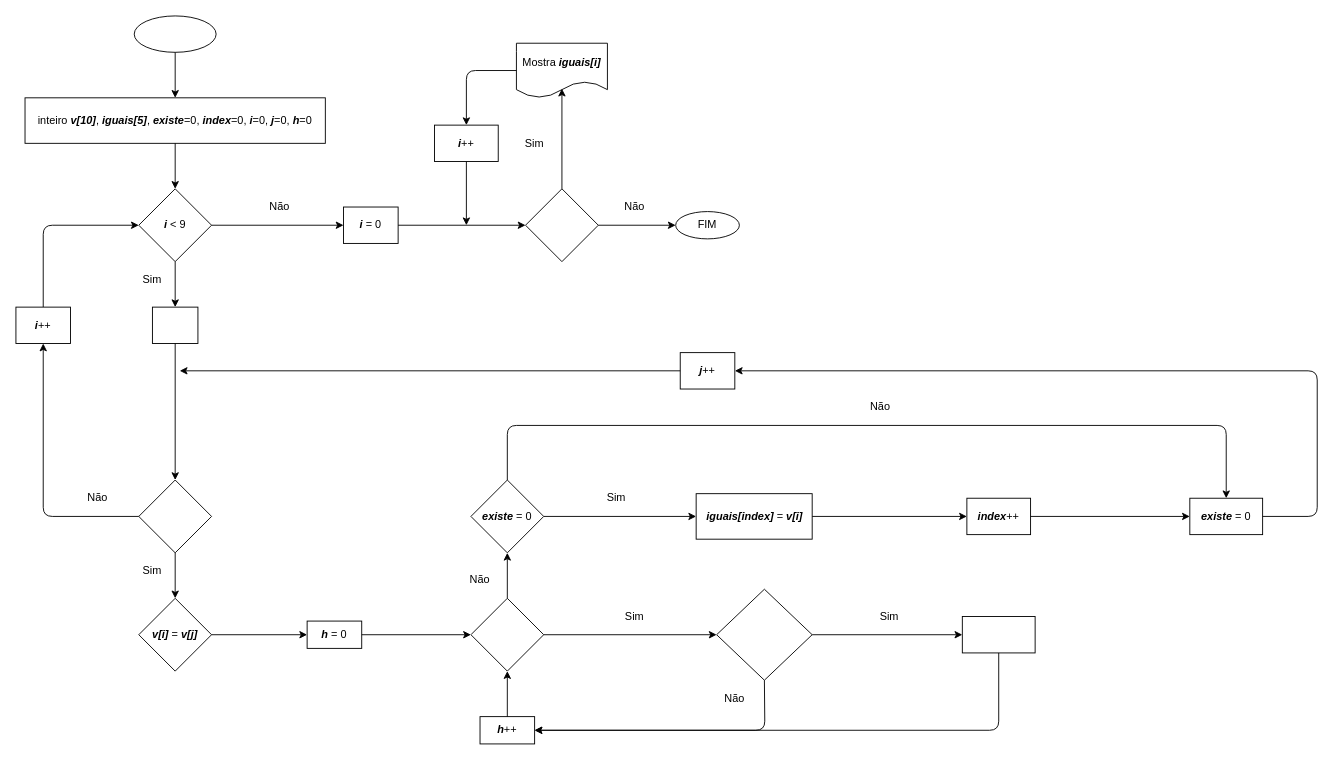
Some shapes in this 1340 by 760 pixel diagram are drawn without their labels. The shapes that lost their labels are listed below. From the top down, each one's centre as x and y in pixels, then its label:
(x=174, y=33): INÍCIO
(x=561, y=225): i < index
(x=175, y=325): j = i +1
(x=175, y=516): j < 10
(x=507, y=634): h <= index
(x=764, y=634): v[i] = iguais[h]
(x=998, y=634): existe = 1
